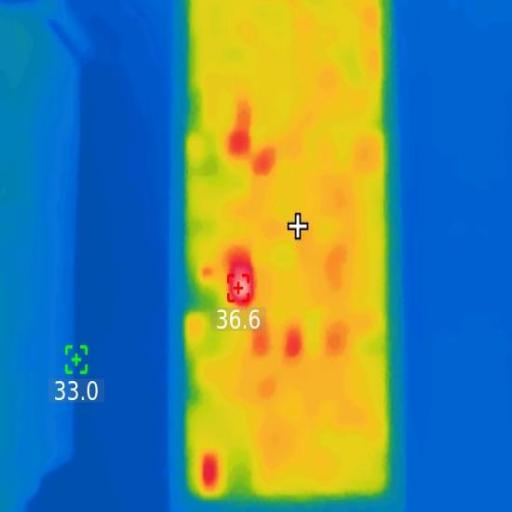hotspot: (227, 248, 256, 307), (228, 124, 251, 162), (202, 452, 221, 491), (256, 146, 276, 179), (252, 318, 268, 355), (287, 332, 302, 358)
